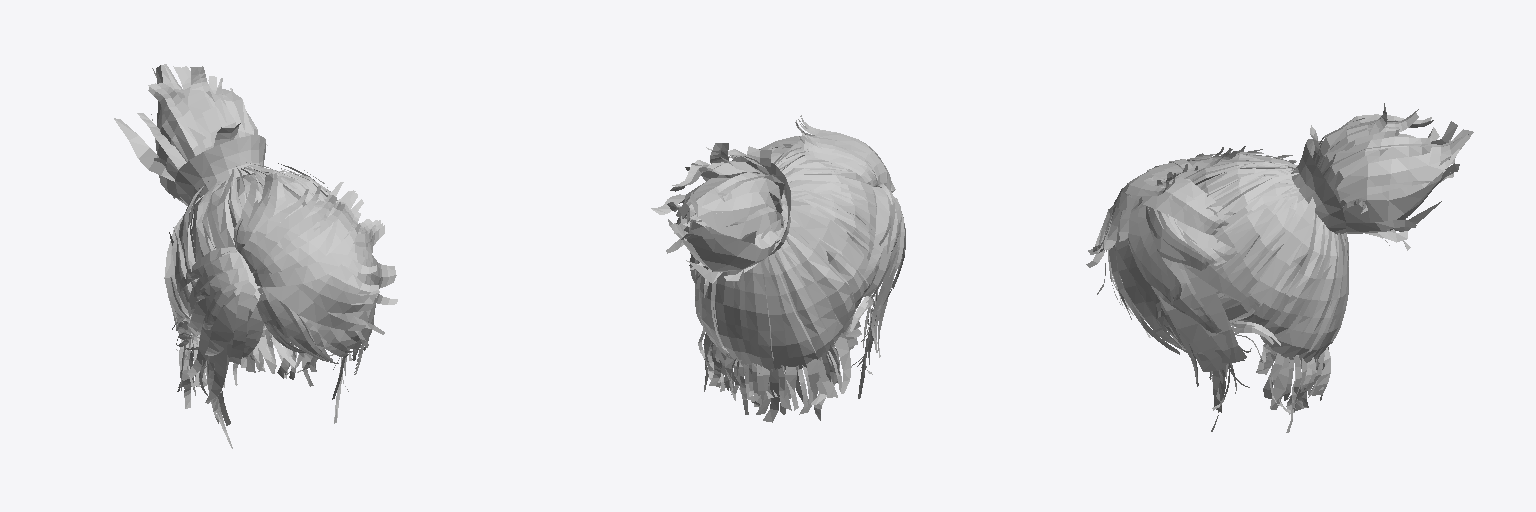
The picture shows the model from 3 angles: view 1: azimuth 30°, elevation 25°; view 2: azimuth 150°, elevation 25°; view 3: azimuth 270°, elevation 25°; orthographic projection.
Parts seen in each view (by area): view 1: group1 Mesh_0070_ncl1_1, Mesh_0065 group1, group1 Mesh_0131_ncl1_1; view 2: group1 Mesh_0070_ncl1_1, Mesh_0065 group1; view 3: group1 Mesh_0070_ncl1_1, Mesh_0065 group1, group1 Mesh_0131_ncl1_1.
Boxes of the visible parts, <box> form: group1 Mesh_0070_ncl1_1: <box>164,162,397,448</box>; Mesh_0065 group1: <box>114,64,267,205</box>; group1 Mesh_0131_ncl1_1: <box>175,135,265,205</box>; group1 Mesh_0070_ncl1_1: <box>689,115,905,422</box>; Mesh_0065 group1: <box>651,143,784,298</box>; group1 Mesh_0070_ncl1_1: <box>1086,146,1348,432</box>; Mesh_0065 group1: <box>1310,103,1473,250</box>; group1 Mesh_0131_ncl1_1: <box>1291,139,1345,234</box>.
Size of the model in its own units: 41.38 by 65.73 by 74.94.